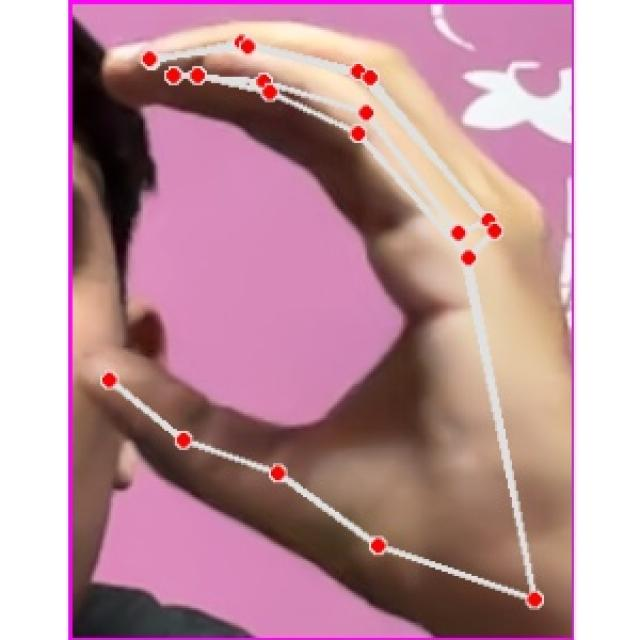C: (83, 22, 582, 640)
